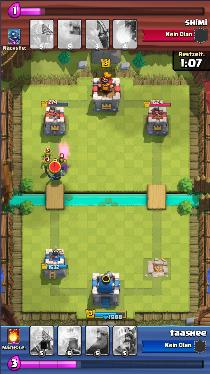ally_mini_pekka: (46, 169, 63, 182)
enemy_goblin: (41, 150, 53, 161), (56, 156, 68, 166), (40, 159, 50, 168)
